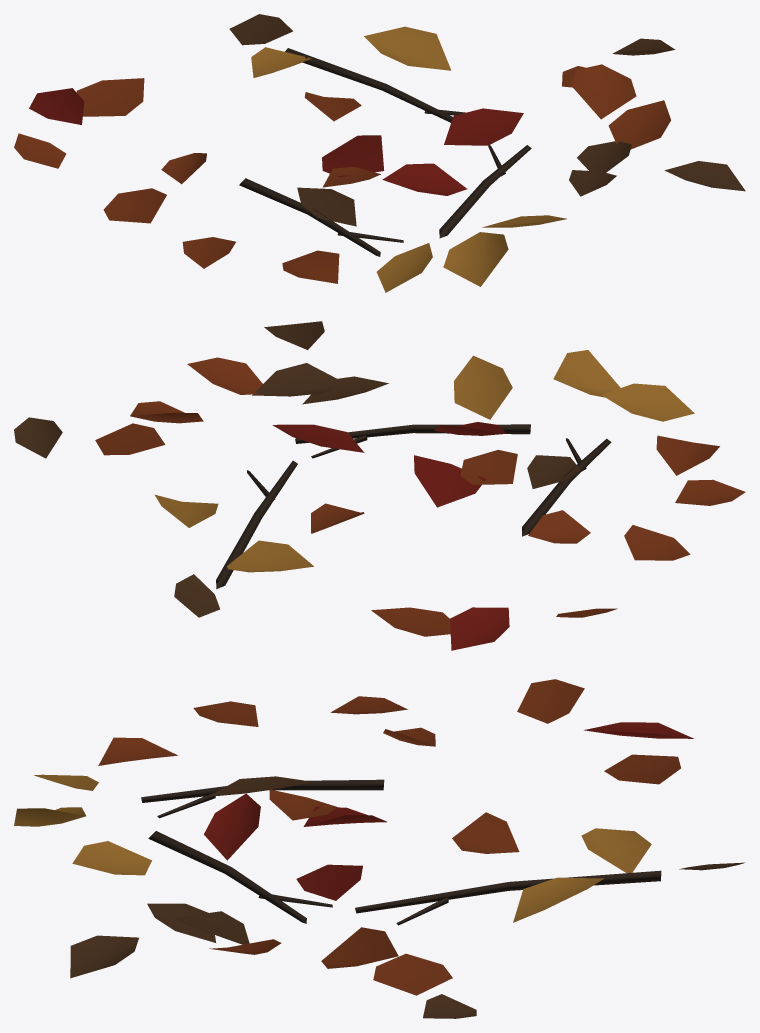
The model's file is leaf_litter.glb.
3 renders of one model, top to bottom at view 1: azimuth 30°, elevation 25°; view 2: azimuth 150°, elevation 25°; view 3: azimuth 270°, elevation 25°, orthographic. The views are drawn at different scales.
Visible parts, largest first — view 1: LeafLitter_mesh; view 2: LeafLitter_mesh; view 3: LeafLitter_mesh.
Part boxes in pixels (box(x1,y1,x2,y2)): LeafLitter_mesh: box(14, 14, 745, 292); LeafLitter_mesh: box(14, 321, 745, 650); LeafLitter_mesh: box(14, 679, 744, 1018).
Bounding box in the file's own units: 0.8228 × 0.0484 × 0.7658.
